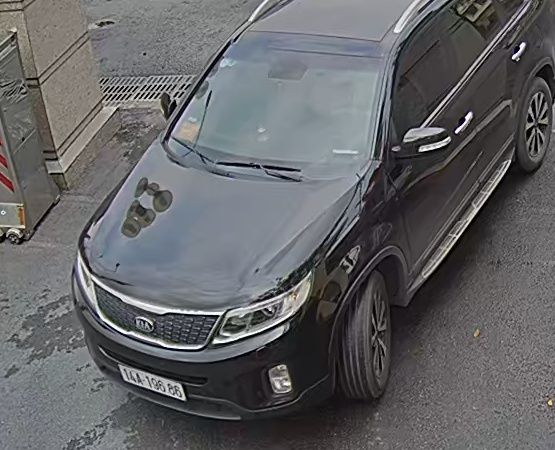vehicle plate: (112, 363, 187, 403)
